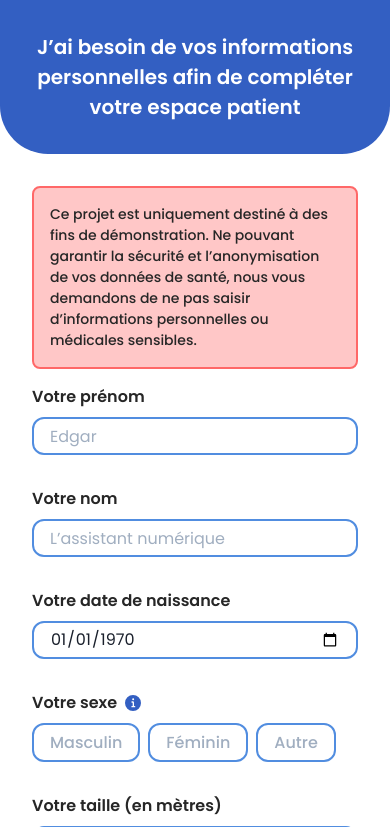
Test: Personal Info Page tests - Mobile › Working page › Error states › Bad birthdate (too young)
Type "2500-01-01" into the date field with id "edgar-onboardingPersonalPage-formBirthdate-input" at (195, 640), box x1=32 y1=621 x2=358 y2=659
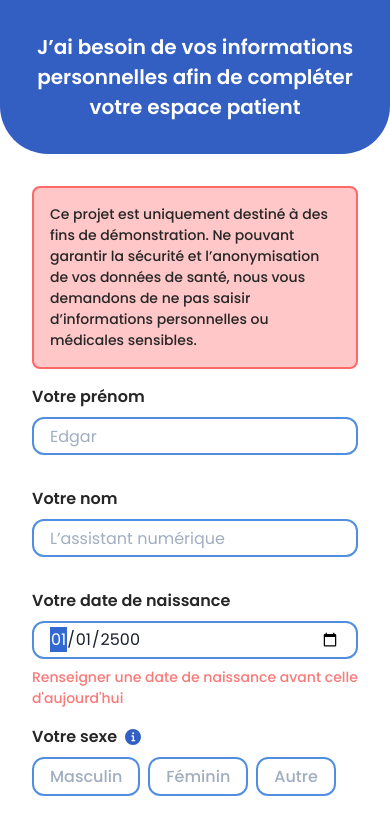
Expected: the text with id "edgar-onboardingPersonalPage-formBirthdateErrorMax-text" reads "Renseigner une date de naissance avant celle d'aujourd'hui", x1=32 y1=667 x2=358 y2=709
